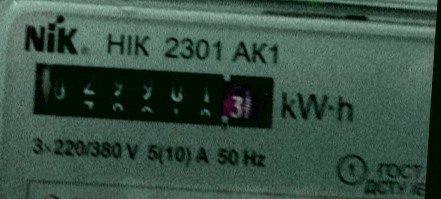0: (50, 73, 69, 101), (169, 75, 187, 104)
1: (200, 76, 215, 104)
2: (80, 69, 100, 97)
3: (228, 92, 247, 119)
9: (110, 71, 128, 99), (141, 74, 156, 101)
screen: (23, 51, 287, 140)
